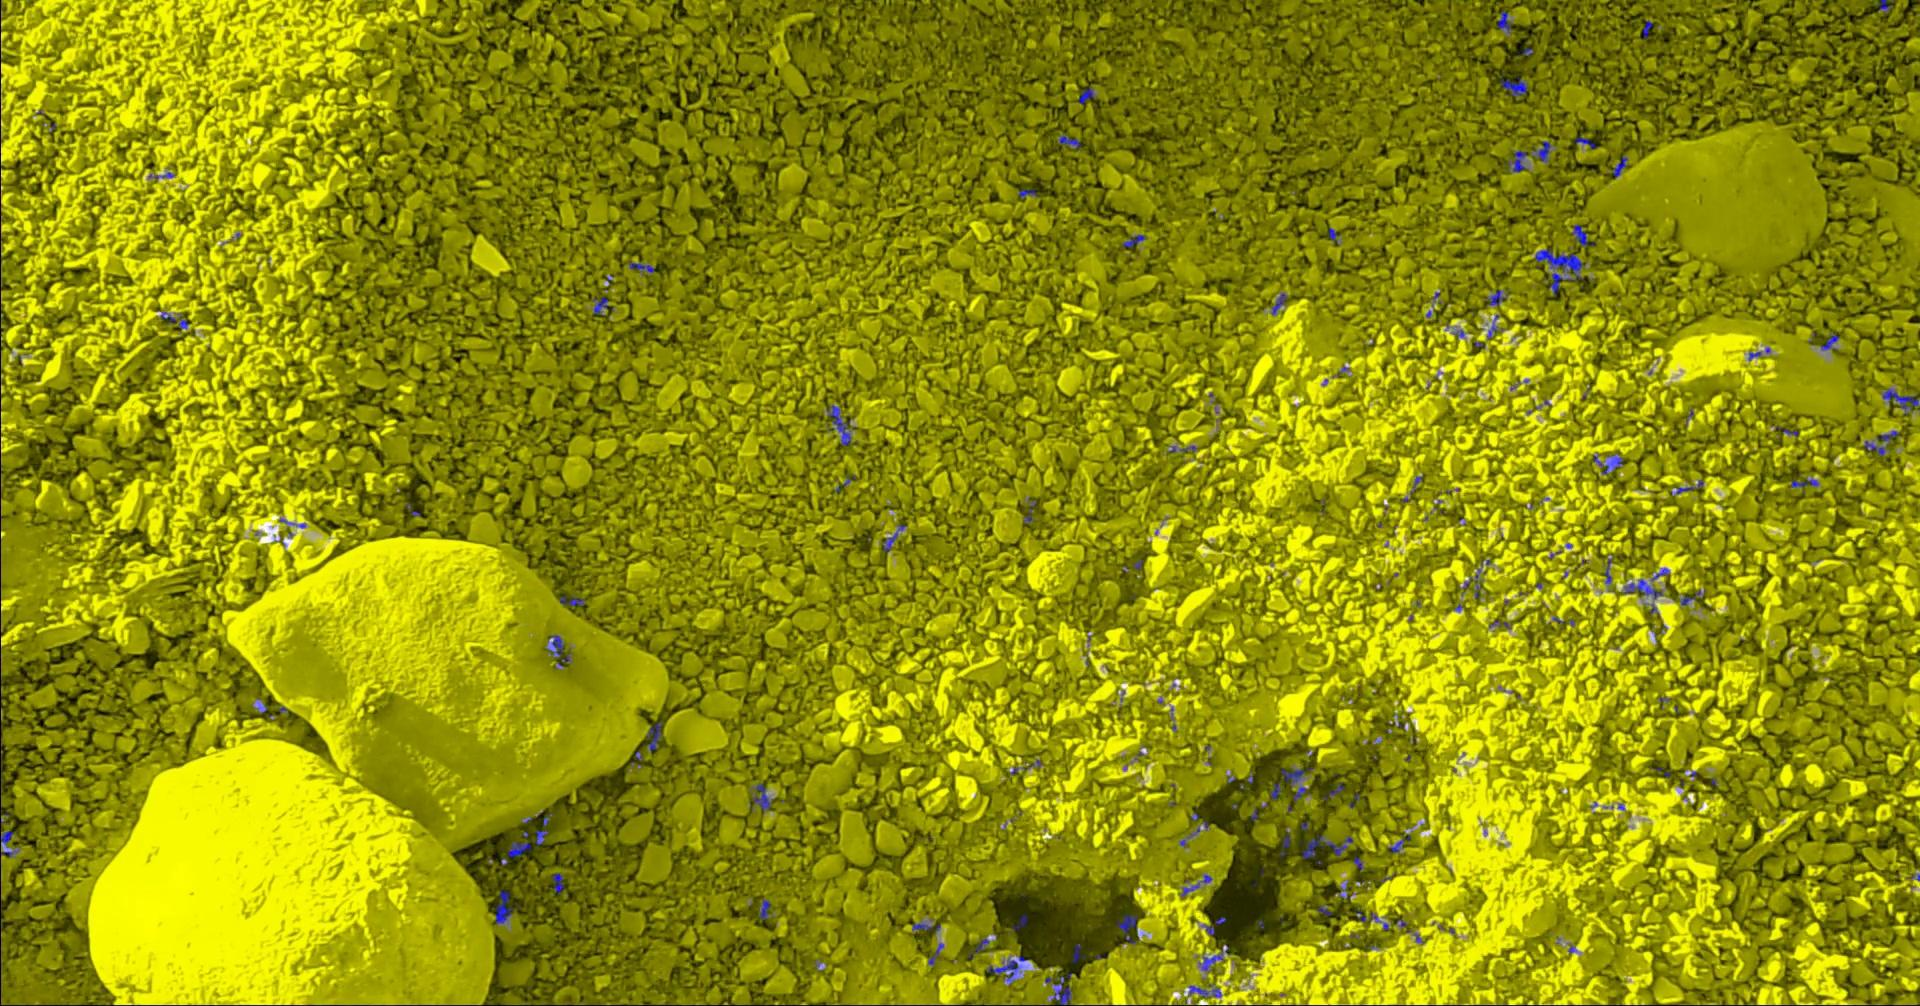ant: (1534, 246, 1586, 293), (1299, 835, 1352, 857), (825, 404, 851, 445), (500, 831, 531, 864), (1881, 387, 1919, 413), (1197, 942, 1229, 970), (987, 958, 1020, 984), (1623, 579, 1662, 600), (546, 634, 569, 666), (1051, 969, 1072, 1005), (749, 782, 773, 810), (494, 890, 513, 923), (157, 309, 188, 329), (1498, 75, 1528, 95), (1592, 453, 1622, 474), (1116, 913, 1137, 942), (1280, 767, 1313, 785), (535, 812, 552, 845), (1571, 224, 1595, 246), (1503, 150, 1528, 171), (645, 721, 662, 751), (0, 829, 18, 856), (968, 937, 989, 959), (1531, 140, 1550, 163), (1189, 984, 1222, 997), (1322, 781, 1343, 800), (1789, 479, 1818, 493), (1675, 479, 1703, 493), (1388, 835, 1410, 852), (927, 942, 943, 965), (1680, 589, 1704, 605), (1876, 431, 1901, 445), (1058, 135, 1081, 150), (1820, 333, 1839, 351), (1270, 293, 1286, 314), (1611, 155, 1627, 177), (1863, 439, 1884, 455), (590, 296, 608, 314), (1121, 234, 1145, 246), (883, 531, 897, 553), (1078, 86, 1095, 104), (1497, 10, 1510, 33), (629, 260, 654, 272), (1484, 290, 1503, 305), (1070, 942, 1084, 963), (1023, 499, 1035, 523), (1575, 136, 1595, 149), (559, 594, 584, 605), (551, 873, 564, 893), (1012, 913, 1027, 930), (758, 898, 770, 920), (1877, 0, 1895, 13), (910, 923, 940, 931), (1270, 782, 1281, 799), (1642, 20, 1652, 38), (1293, 786, 1305, 800), (1018, 188, 1037, 197)
